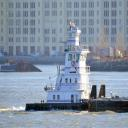tugboat: (25, 22, 108, 114)
